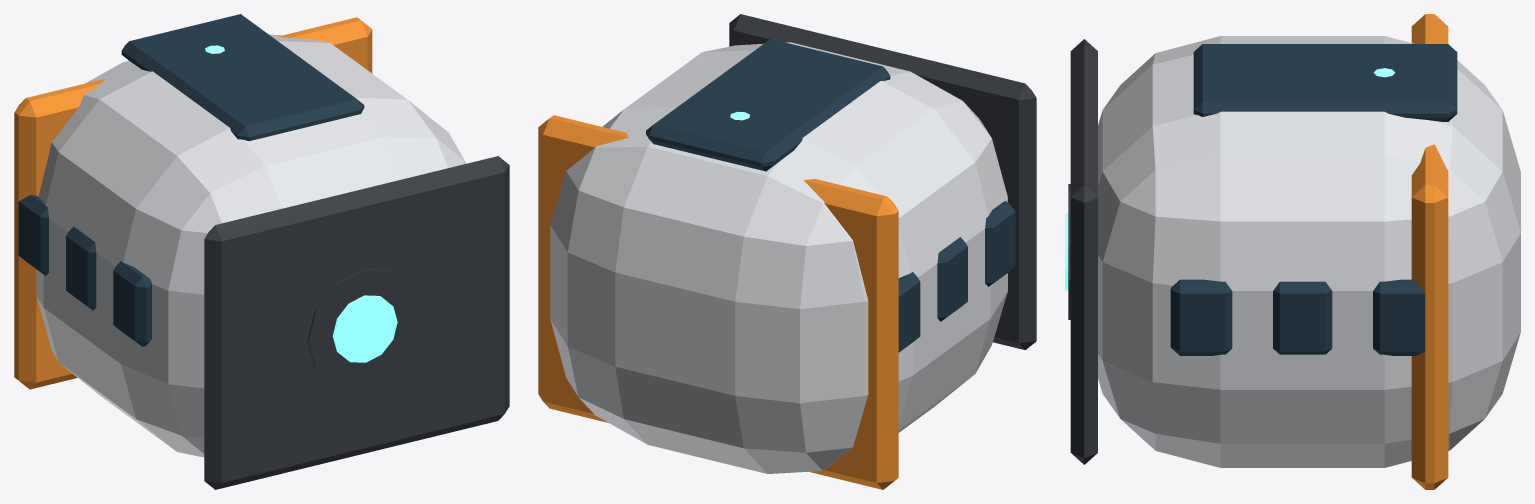
File: crew_quarters_small.glb
3 renders of one model, left to right at view 1: azimuth 30°, elevation 25°; view 2: azimuth 150°, elevation 25°; view 3: azimuth 270°, elevation 25°, orthographic. The views are drawn at different scales.
Parts seen in each view (by area): view 1: crew_quarters_small; view 2: crew_quarters_small; view 3: crew_quarters_small.
Boxes of the visible parts, x1,y1,x2,y2 form: crew_quarters_small: (14, 14, 509, 489); crew_quarters_small: (538, 14, 1036, 489); crew_quarters_small: (1065, 14, 1520, 489).
Bounding box in the file's own units: 0.95 × 0.865 × 1.
